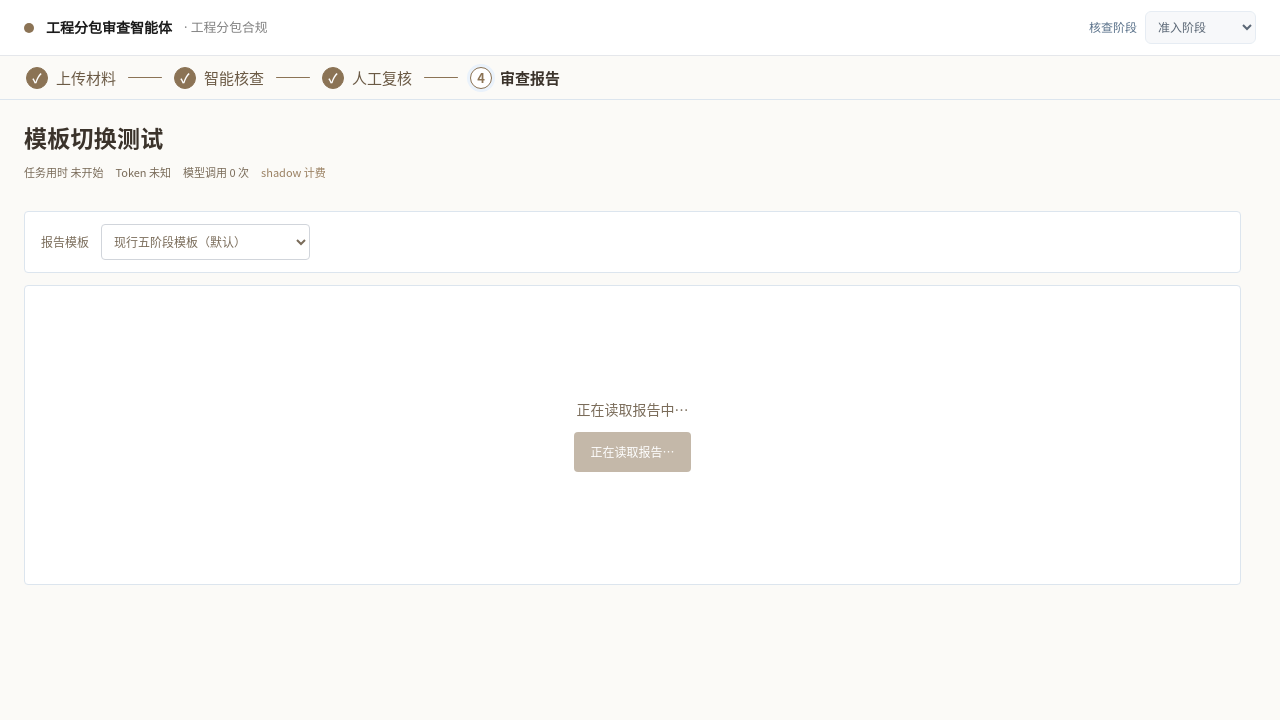
it: discards a delayed report and delayed export after switching templates
The width and height of the screenshot is (1280, 720).
Select "V1.3 详细核查报告（审查人）" in the dropdown labelled "报告模板" at (206, 242), box [101,224,310,260]
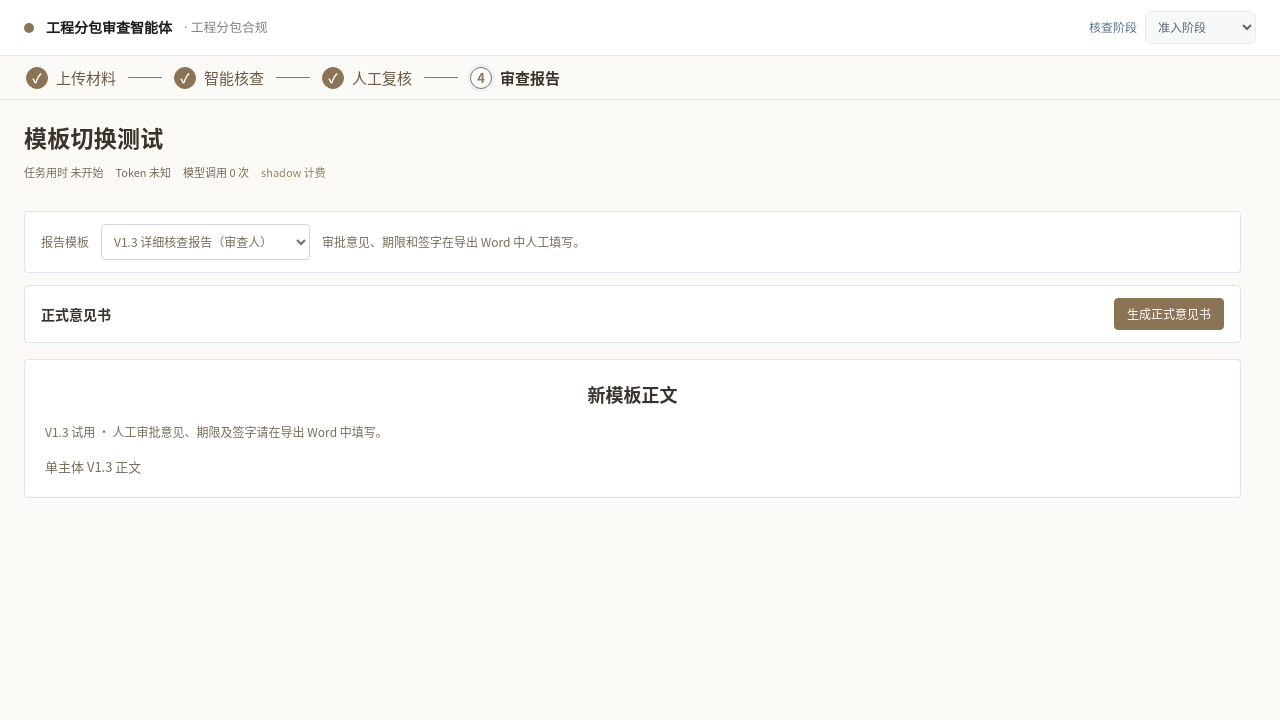
Check: the text "单主体 V1.3 正文" is shown, box [45,457,141,476]
Click the button with test id "generate-formal-opinion" at (1169, 314), box [1114,298,1224,330]
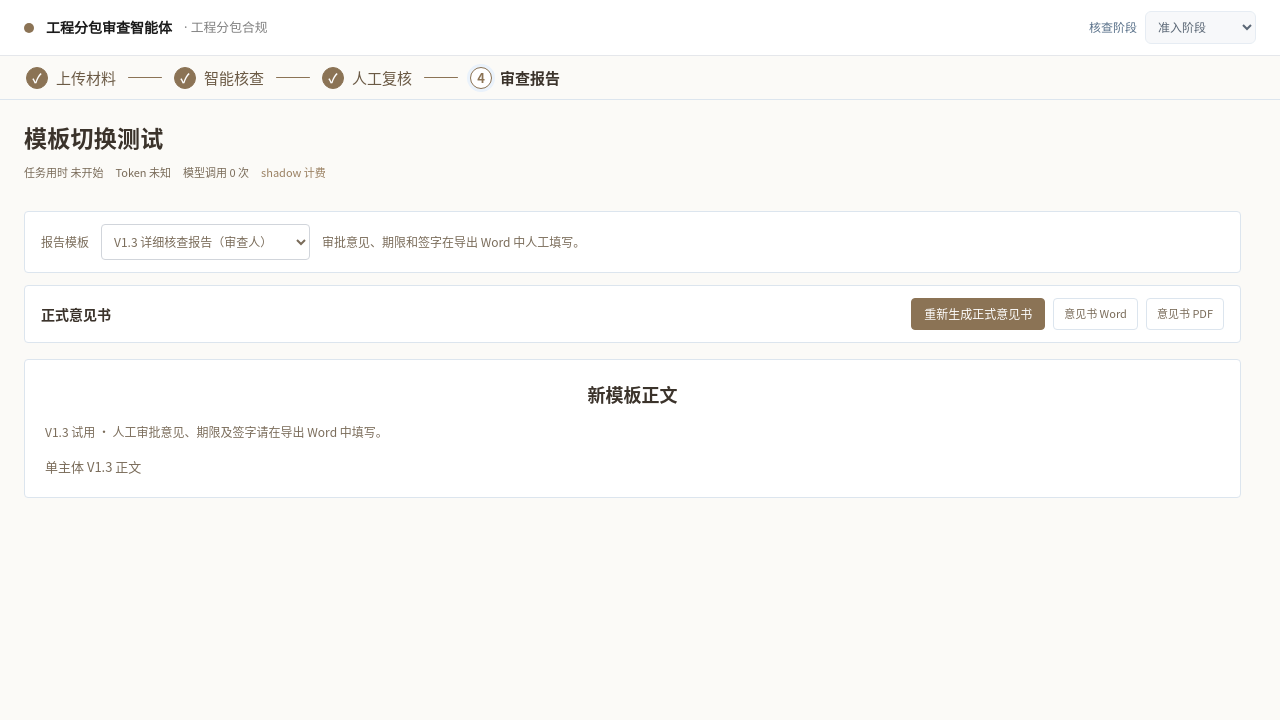
Check: the button with test id "opinion-export-word" is shown
Click the button with test id "opinion-export-word" at (1096, 314), box [1053,298,1138,330]
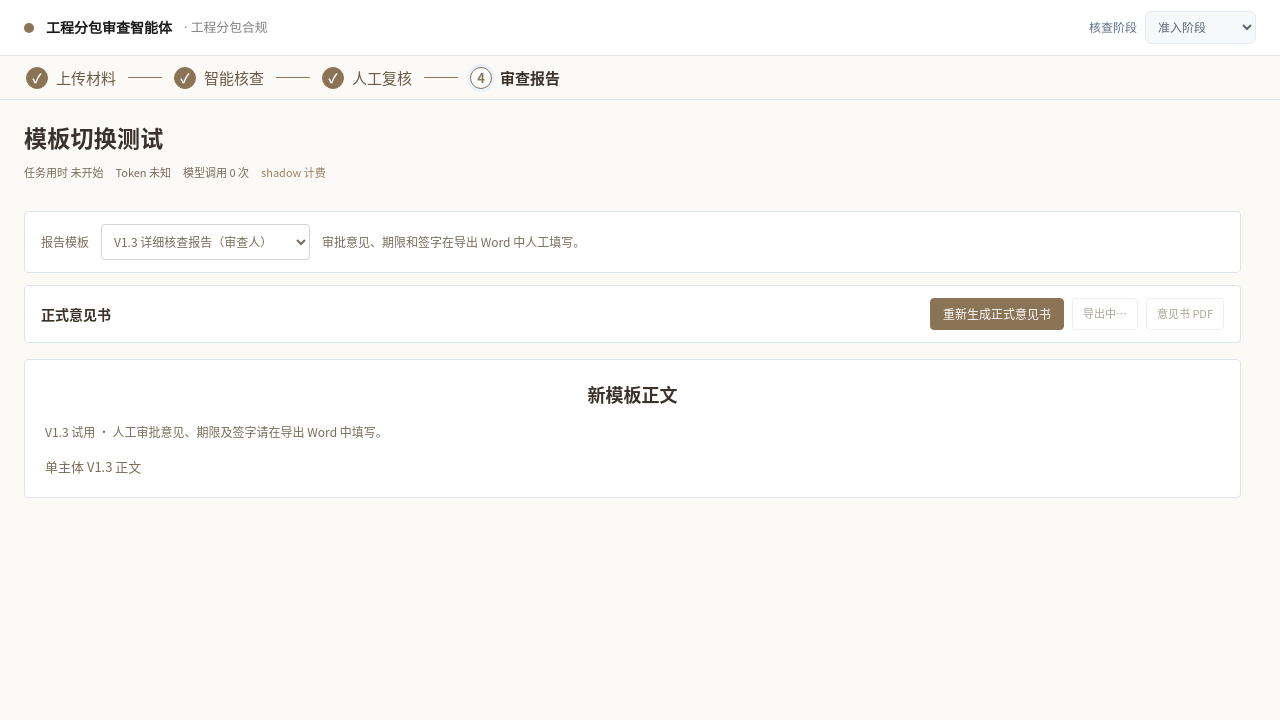
Select "现行五阶段模板（默认）" in the dropdown labelled "报告模板" at (206, 242), box [101,224,310,260]
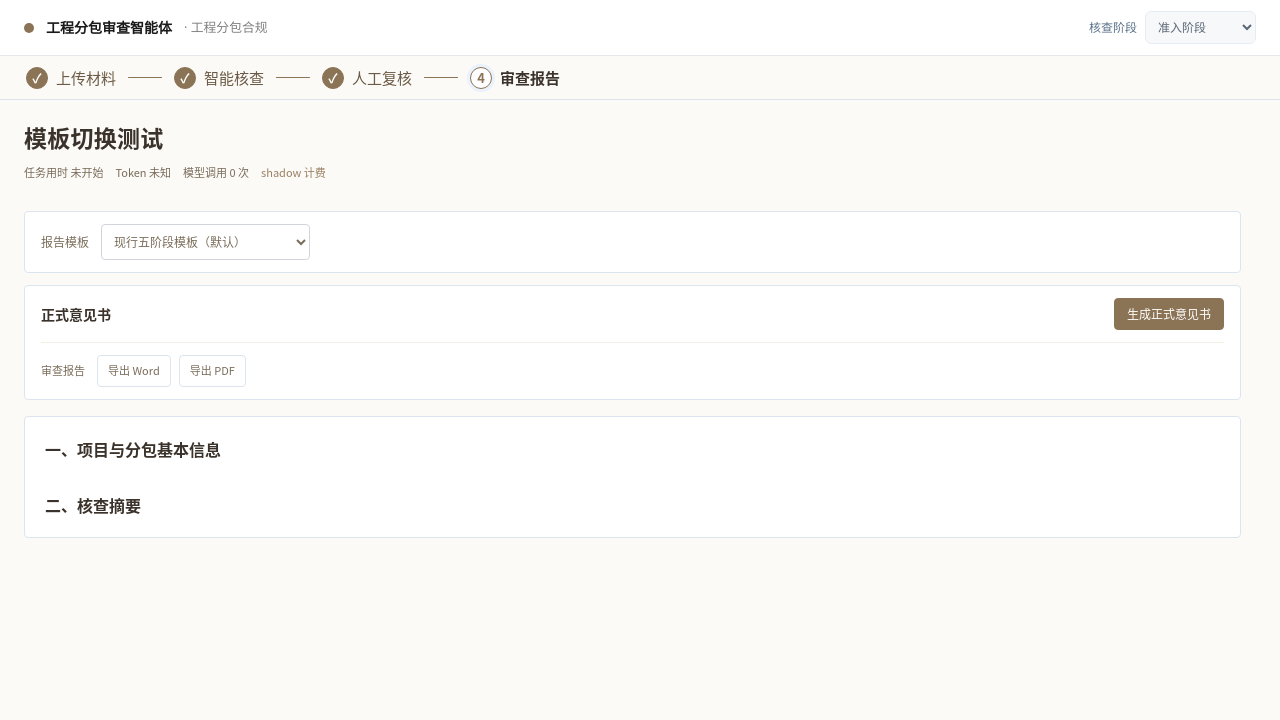
Check: the element with test id "report-template-v13" is gone
Check: the button with test id "opinion-export-word" is gone
